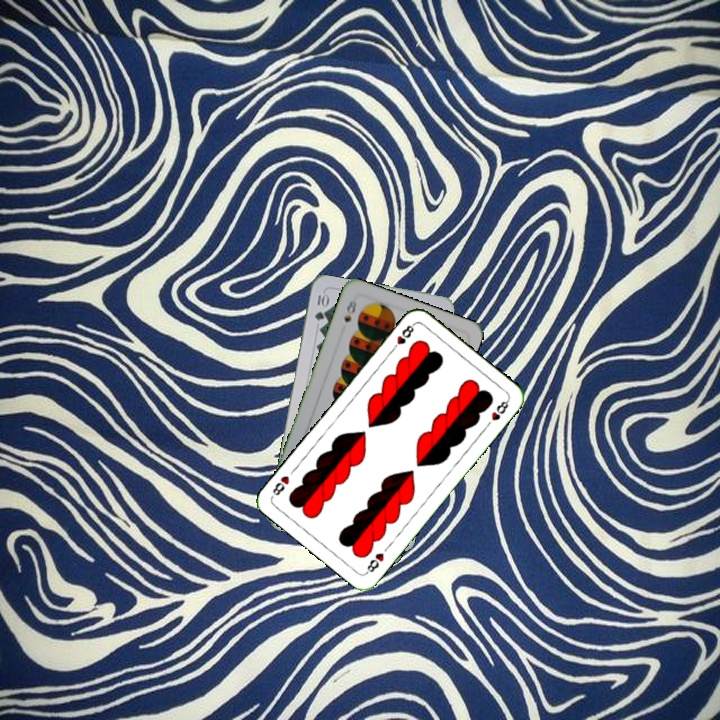G10: (311, 289, 330, 323)
H8: (388, 319, 417, 354), (362, 549, 387, 576)
S8: (340, 293, 359, 325)
